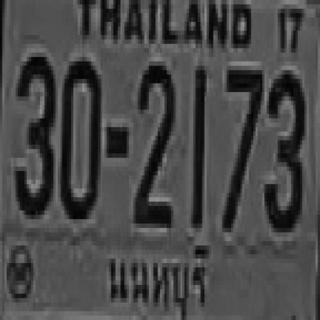N00: (59, 57, 99, 215)
N01: (191, 64, 204, 226)
N02: (133, 59, 173, 221)
N03: (13, 53, 53, 215), (263, 68, 303, 226)
N07: (221, 66, 261, 228)
P37: (109, 241, 210, 318)
